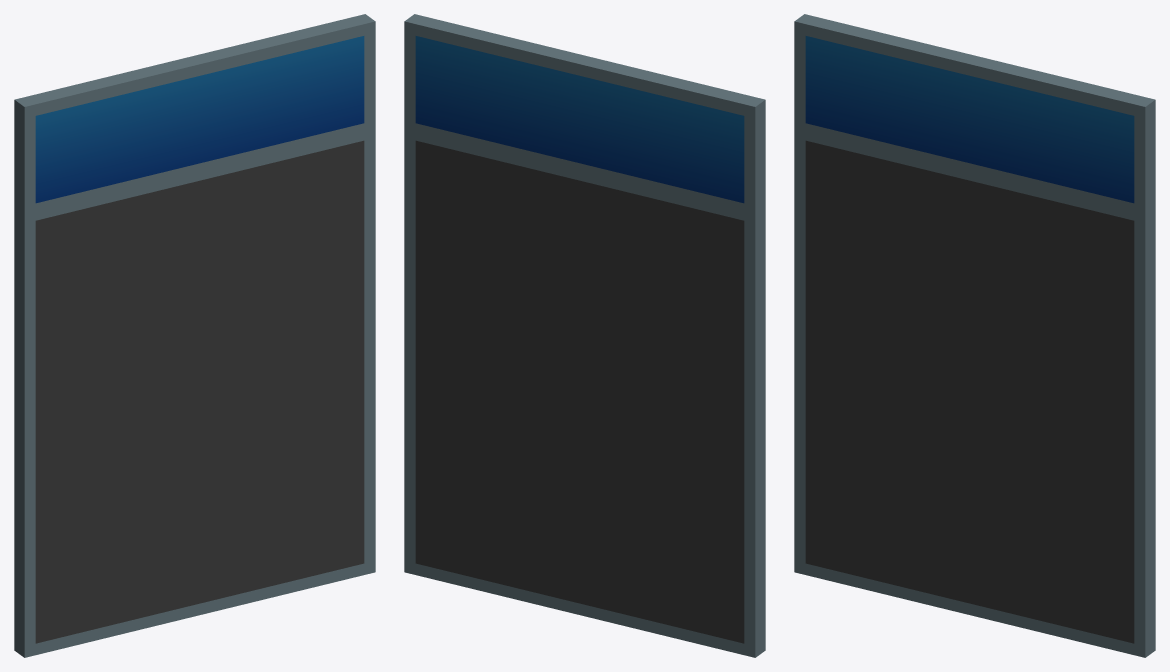
Rendered from CubicleWallV2SmallDark.fbx.
The picture shows the model from 3 angles, left to right: view 1: azimuth 30°, elevation 25°; view 2: azimuth 150°, elevation 25°; view 3: azimuth 330°, elevation 25°; orthographic projection.
Visible parts, largest first — view 1: CubicleWallV2SmallDark; view 2: CubicleWallV2SmallDark; view 3: CubicleWallV2SmallDark.
Part boxes in pixels (bbox=[...]): CubicleWallV2SmallDark: bbox=[14, 14, 375, 657]; CubicleWallV2SmallDark: bbox=[404, 14, 765, 657]; CubicleWallV2SmallDark: bbox=[794, 14, 1155, 657].
Bounding box in the file's own units: 100 × 150 × 5.
